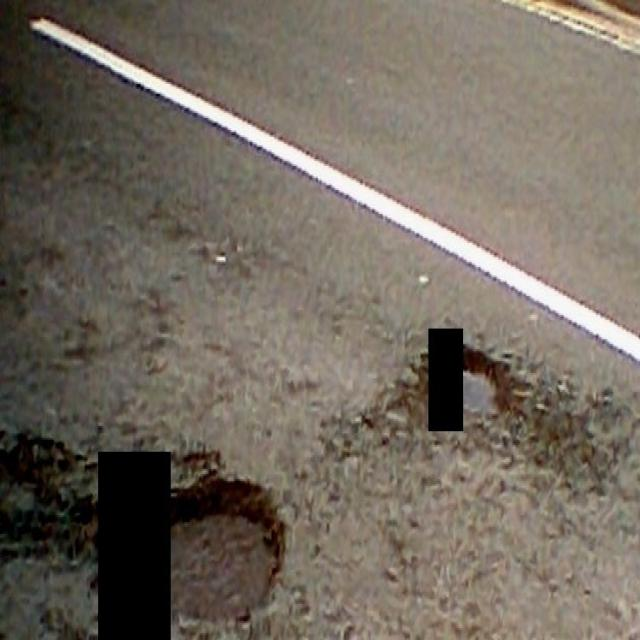road-pothole: (172, 464, 289, 635), (3, 444, 95, 638), (463, 346, 504, 420)
